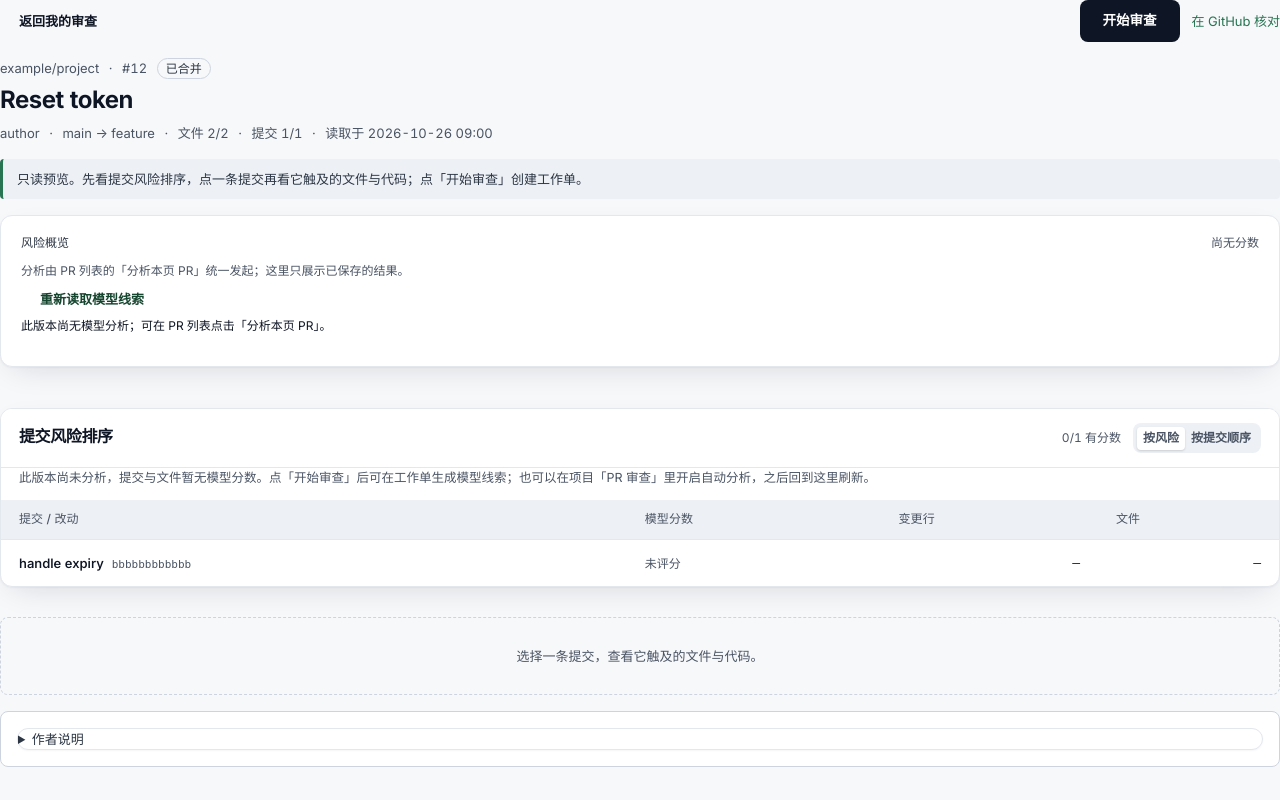
Test: uses current remote state when directly opening a cached code version
The image size is (1280, 800).
Click the button "开始审查" at (1130, 21), box [1080,0,1180,42]
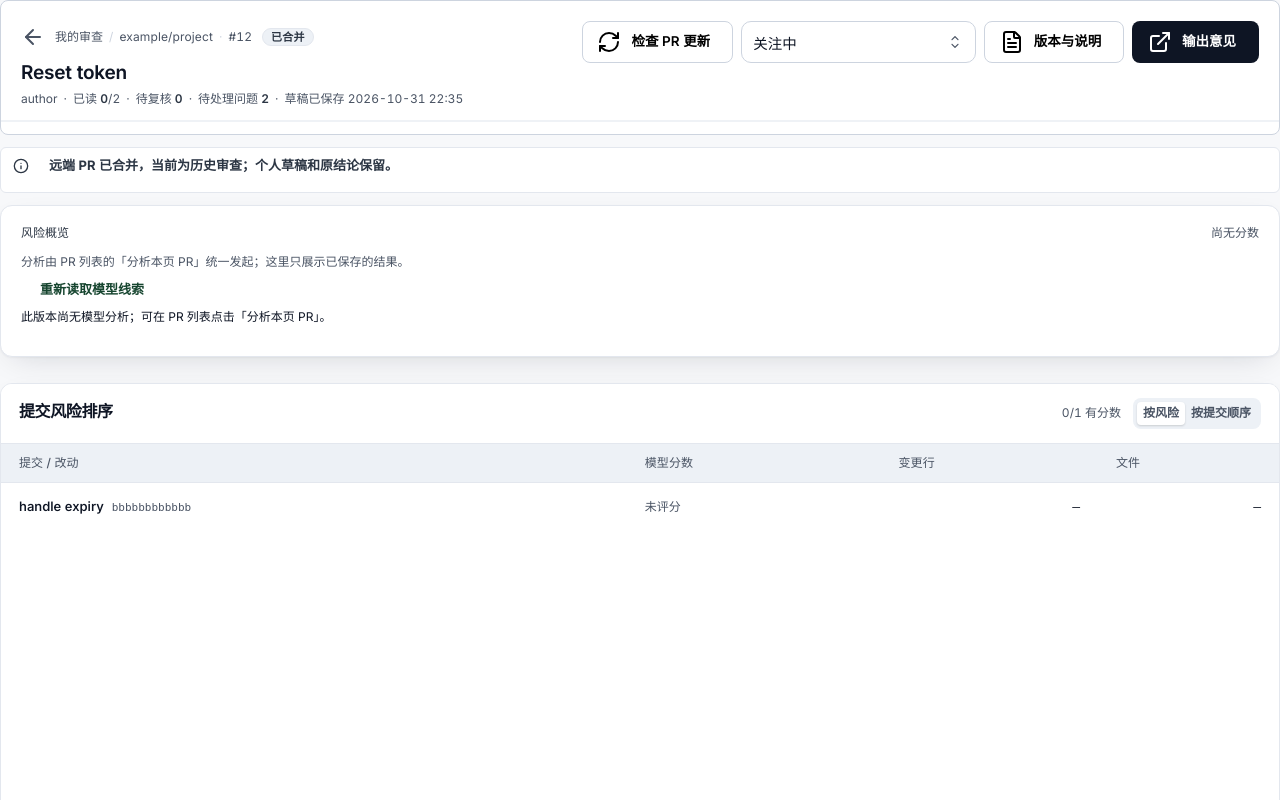
Result: the text "远端 PR 已合并，当前为历史审查；个人草稿和原结论保留。" is shown at [49,155,398,175]
